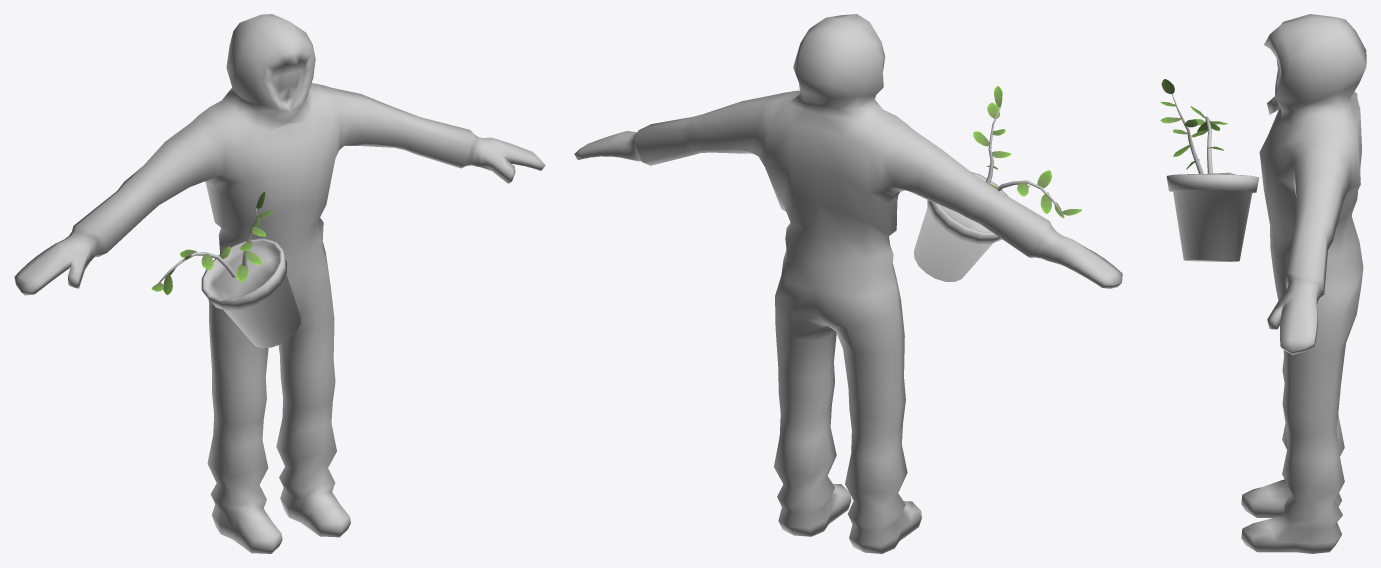
File: Character_Pose_1.fbx
The picture shows the model from 3 angles, left to right: view 1: azimuth 30°, elevation 25°; view 2: azimuth 150°, elevation 25°; view 3: azimuth 270°, elevation 25°; orthographic projection. The views are drawn at different scales.
Visible parts, largest first — view 1: Holding Plant, Pot Stem, Pot Leaves; view 2: Holding Plant, Pot Stem, Pot Leaves; view 3: Holding Plant, Pot Stem, Pot Leaves.
Boxes of the visible parts, <box> form: Holding Plant: <box>14,14,545,553</box>; Pot Stem: <box>158,208,300,348</box>; Pot Leaves: <box>151,191,274,294</box>; Holding Plant: <box>574,14,1122,553</box>; Pot Stem: <box>914,108,1062,281</box>; Pot Leaves: <box>973,86,1081,218</box>; Holding Plant: <box>1241,14,1366,553</box>; Pot Stem: <box>1166,94,1259,261</box>; Pot Leaves: <box>1160,79,1227,169</box>.
Size of the model in its own units: 201 by 183 by 70.11.
